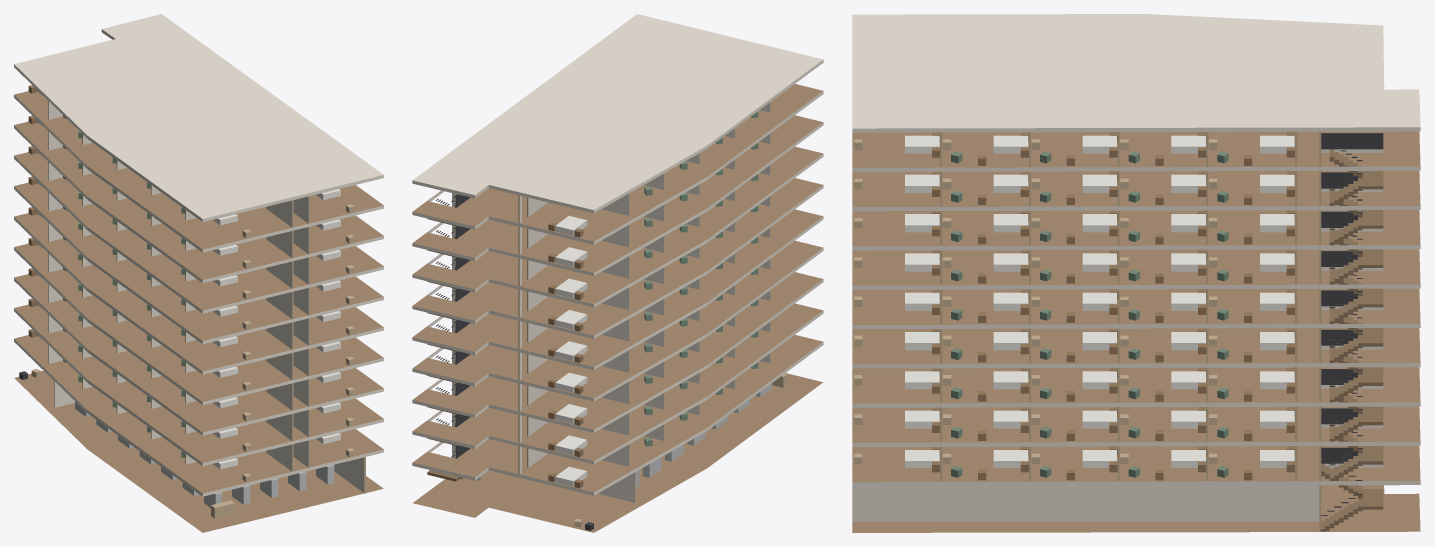
The model's file is interior.glb.
3 renders of one model, left to right at view 1: azimuth 30°, elevation 25°; view 2: azimuth 150°, elevation 25°; view 3: azimuth 270°, elevation 25°, orthographic. The views are drawn at different scales.
Parts seen in each view (by area): view 1: slabs, partitions, coarse-s0, coarse-s2, coarse-s4, coarse-s6, coarse-s8, coarse-s7, coarse-s9, coarse-s1, coarse-s3, coarse-s5; view 2: slabs, partitions, stair, coarse-s0, coarse-s1, coarse-s5, coarse-s7, coarse-s3, coarse-s4, coarse-s8, coarse-s2, coarse-s9 (+1 smaller); view 3: slabs, partitions, stair, coarse-s4, coarse-s8, coarse-s6, coarse-s7, coarse-s3, coarse-s9, coarse-s2, coarse-s5, coarse-s1.
Boxes of the visible parts, bbox=[...] form: slabs: bbox=[14, 14, 383, 532]; partitions: bbox=[48, 101, 365, 493]; coarse-s0: bbox=[19, 369, 334, 518]; coarse-s2: bbox=[28, 298, 354, 451]; coarse-s4: bbox=[28, 237, 354, 390]; coarse-s6: bbox=[28, 176, 354, 329]; coarse-s8: bbox=[28, 115, 354, 268]; coarse-s7: bbox=[28, 146, 354, 299]; coarse-s9: bbox=[28, 85, 354, 238]; coarse-s1: bbox=[28, 329, 354, 482]; coarse-s3: bbox=[28, 268, 354, 421]; coarse-s5: bbox=[28, 207, 354, 360]; slabs: bbox=[412, 14, 823, 532]; partitions: bbox=[452, 102, 770, 502]; stair: bbox=[427, 194, 470, 481]; coarse-s0: bbox=[574, 373, 787, 530]; coarse-s1: bbox=[548, 362, 758, 488]; coarse-s5: bbox=[548, 237, 758, 362]; coarse-s7: bbox=[548, 174, 758, 300]; coarse-s3: bbox=[548, 299, 758, 425]; coarse-s4: bbox=[548, 268, 758, 394]; coarse-s8: bbox=[548, 143, 758, 268]; coarse-s2: bbox=[548, 331, 758, 457]; coarse-s9: bbox=[548, 111, 758, 237]; slabs: bbox=[852, 14, 1420, 532]; partitions: bbox=[852, 131, 1321, 531]; stair: bbox=[1320, 133, 1383, 531]; coarse-s4: bbox=[854, 328, 1294, 362]; coarse-s8: bbox=[854, 171, 1294, 204]; coarse-s6: bbox=[854, 249, 1294, 283]; coarse-s7: bbox=[854, 210, 1294, 244]; coarse-s3: bbox=[854, 367, 1294, 401]; coarse-s9: bbox=[854, 131, 1294, 165]; coarse-s2: bbox=[854, 406, 1294, 440]; coarse-s5: bbox=[854, 289, 1294, 322]; coarse-s1: bbox=[854, 446, 1294, 480].
Size of the model in its own units: 15.63 by 25.75 by 32.75.
